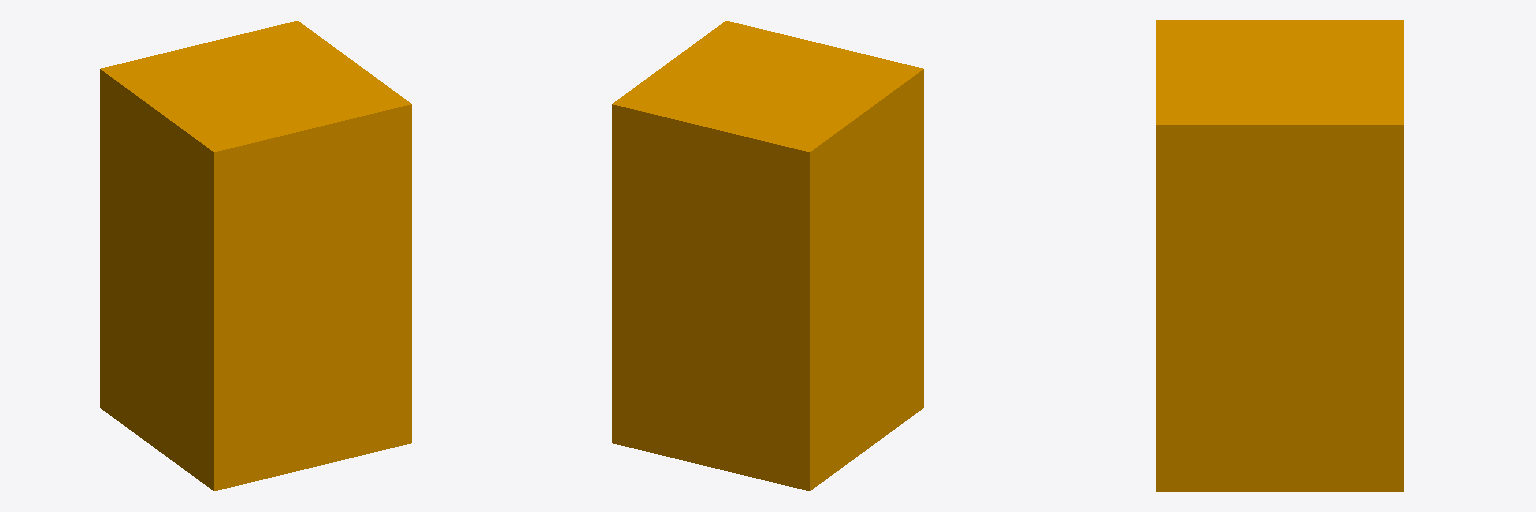
URDF robot description (object):
<?xml version="1.0"?>
<!-- Auto-generated by tools/gen_primitive_objects.py. kind=box dims=(0.055, 0.055, 0.09) -->
<robot name="object">
  <link name="object">
    <visual>
      <origin xyz="0 0 0"/>
      <geometry>
        <box size="0.055000 0.055000 0.090000"/>
      </geometry>
    </visual>
    <collision>
      <origin xyz="0 0 0"/>
      <geometry>
        <box size="0.055000 0.055000 0.090000"/>
      </geometry>
    </collision>
    <inertial>
      <mass value="0.054450"/>
      <inertia ixx="0.00005048" ixy="0.0" ixz="0.0" iyy="0.00005048" iyz="0.0" izz="0.00002745"/>
    </inertial>
  </link>
</robot>

--- What the picture shows (computed from the rendered views, not written in the file) ---
3 views of the same robot in one strip: view 1: azimuth 30°, elevation 25°; view 2: azimuth 150°, elevation 25°; view 3: azimuth 270°, elevation 25° (orthographic).
Model object with 1 links and 0 joints (none), rooted at object, posed every joint at zero.
Visible links, largest first — view 1: object; view 2: object; view 3: object.
Link boxes in pixels (left/top/right/bottom): object: left=100, top=21, right=411, bottom=490; object: left=612, top=21, right=923, bottom=490; object: left=1156, top=20, right=1403, bottom=491.
Size in the robot's own frame: 0.055 by 0.055 by 0.09 metres.
Geometry: primitives only (box / cylinder / sphere), no mesh files.
